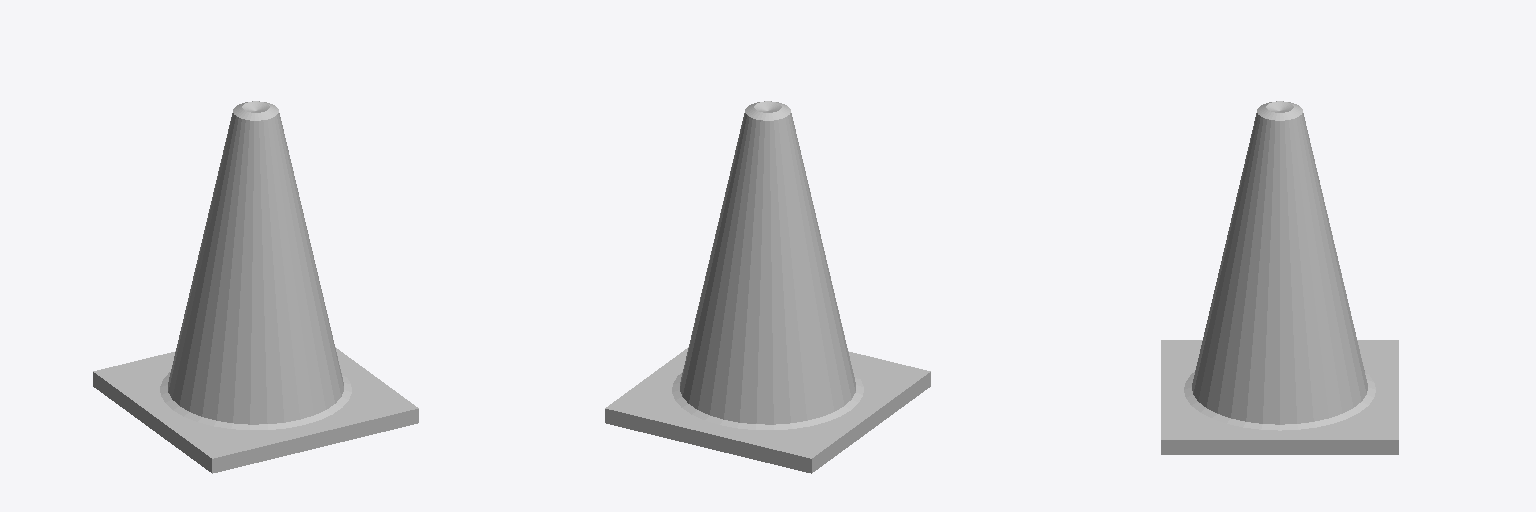
File: Traffic_Cone.obj
3 views of the same model, side by side, from view 1: azimuth 30°, elevation 25°; view 2: azimuth 150°, elevation 25°; view 3: azimuth 270°, elevation 25° (orthographic).
Parts seen in each view (by area): view 1: Cone; view 2: Cone; view 3: Cone.
Part boxes in pixels (x1,y1,x2,y2): Cone: (93,101,418,473); Cone: (605,101,930,473); Cone: (1161,101,1398,454).
Bounding box in the file's own units: 0.41 × 0.5643 × 0.41.